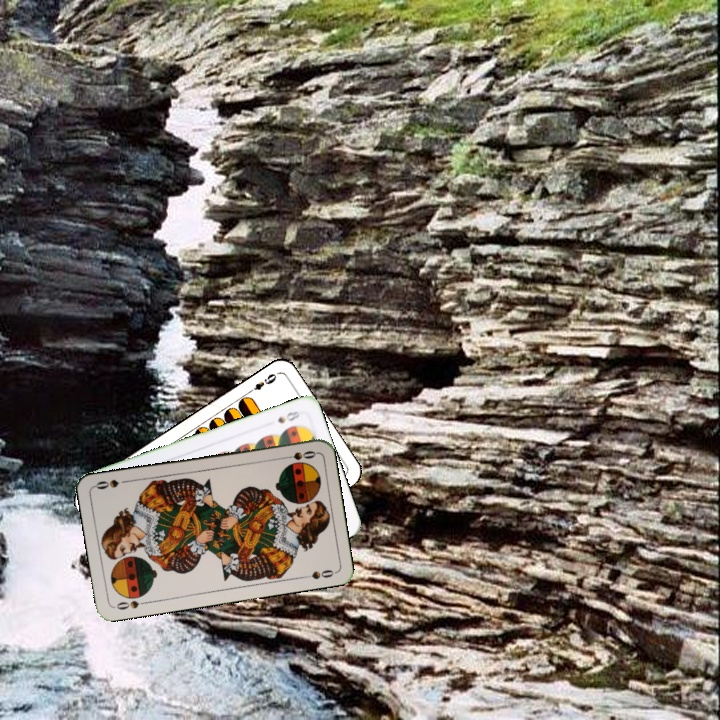E9: (244, 369, 280, 396)
S8: (273, 406, 304, 426)
SO: (278, 447, 318, 463), (111, 596, 151, 612)
